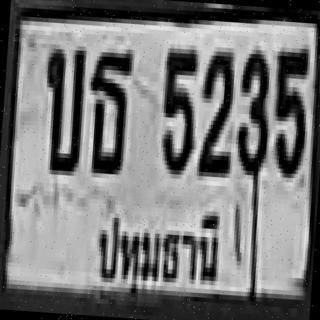A24: (82, 45, 133, 173)
A26: (37, 40, 86, 172)
N02: (194, 46, 236, 174)
N03: (234, 44, 271, 171)
N05: (268, 42, 310, 174), (157, 43, 197, 171)
P38: (91, 197, 228, 308)
